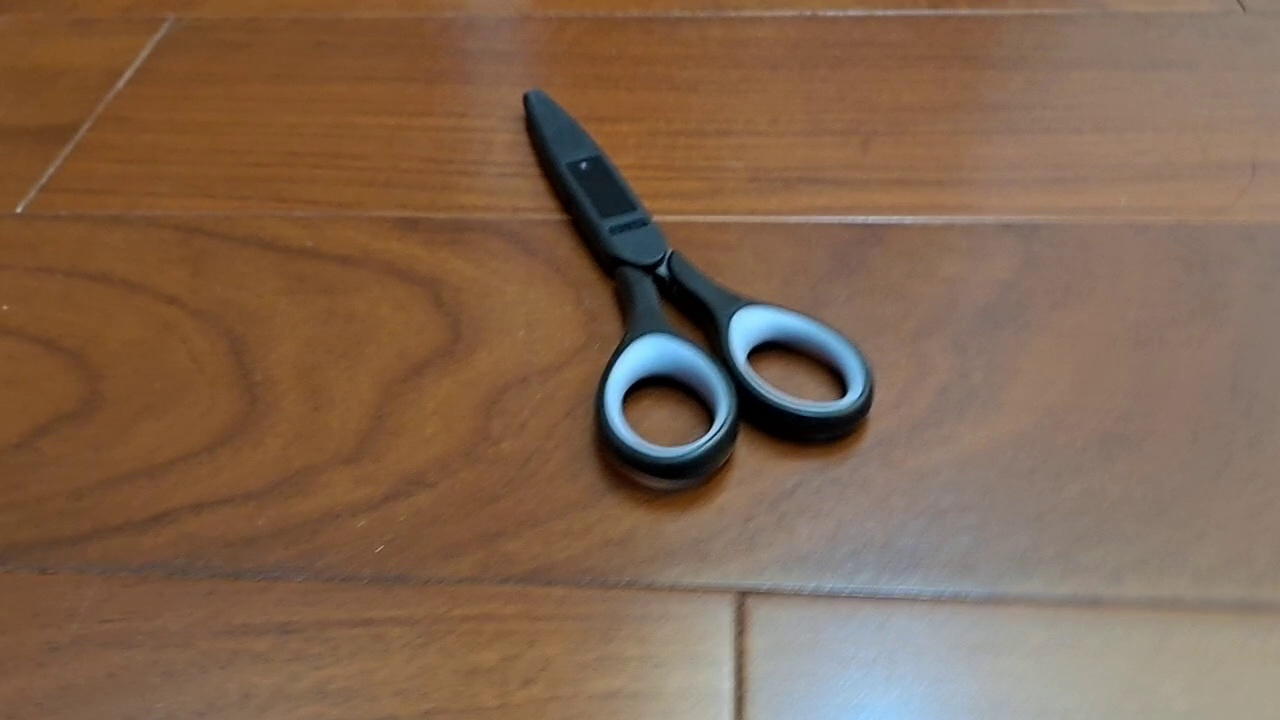scissors: (521, 87, 875, 482)
